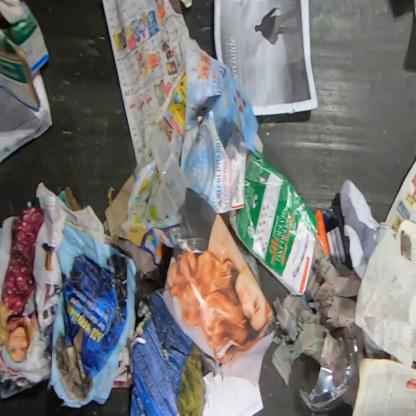cardboard: (228, 148, 318, 296), (128, 290, 224, 415), (0, 0, 49, 113), (310, 204, 354, 272), (104, 174, 135, 240)
rigid_plastic: (299, 331, 359, 413)
